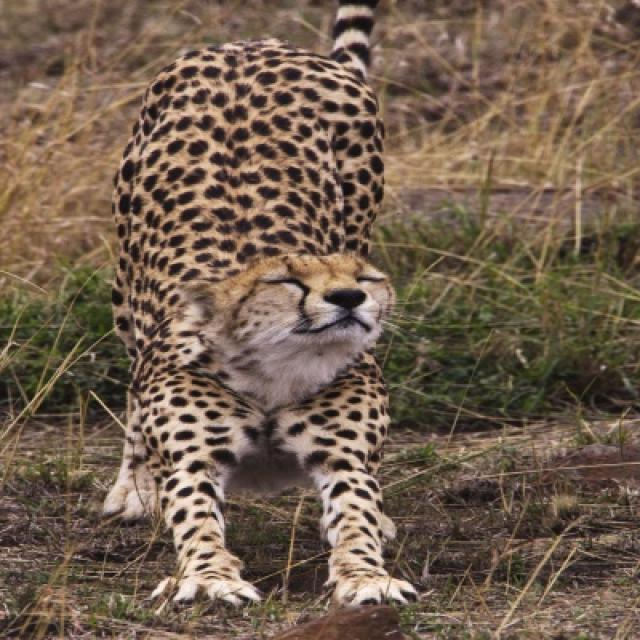Cheetah: (100, 0, 411, 612)
